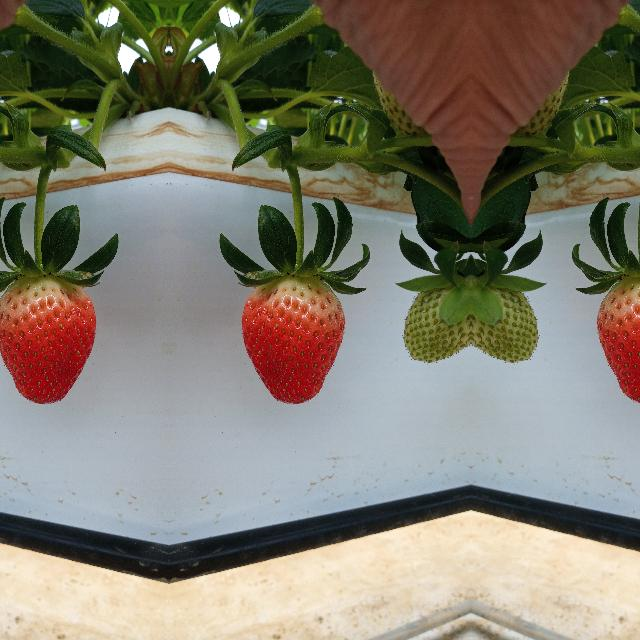Health_100: (240, 272, 344, 406), (0, 272, 96, 406), (596, 272, 640, 406)
Health_25: (392, 259, 470, 359), (471, 259, 549, 359)
